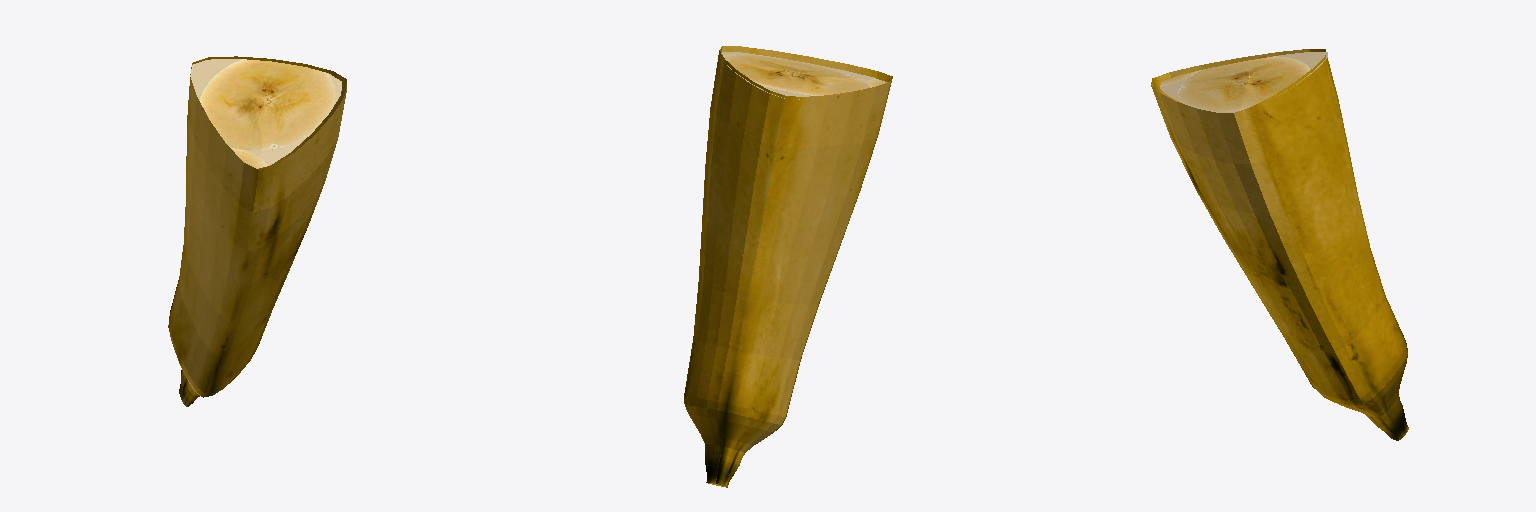
3 renders of one model, left to right at view 1: azimuth 30°, elevation 25°; view 2: azimuth 150°, elevation 25°; view 3: azimuth 270°, elevation 25°, orthographic.
Parts seen in each view (by area): view 1: ____02, Line01; view 2: ____02, Line01; view 3: ____02, Line01.
Part boxes in pixels (x1,y1,x2,y2): ____02: (168, 56, 346, 406); Line01: (190, 59, 341, 168); ____02: (684, 46, 892, 487); Line01: (721, 52, 886, 99); ____02: (1151, 49, 1408, 440); Line01: (1160, 52, 1327, 112).
Size of the model in its own units: 0.2901 by 0.7572 by 0.4712.
2 materials, 2 textured.